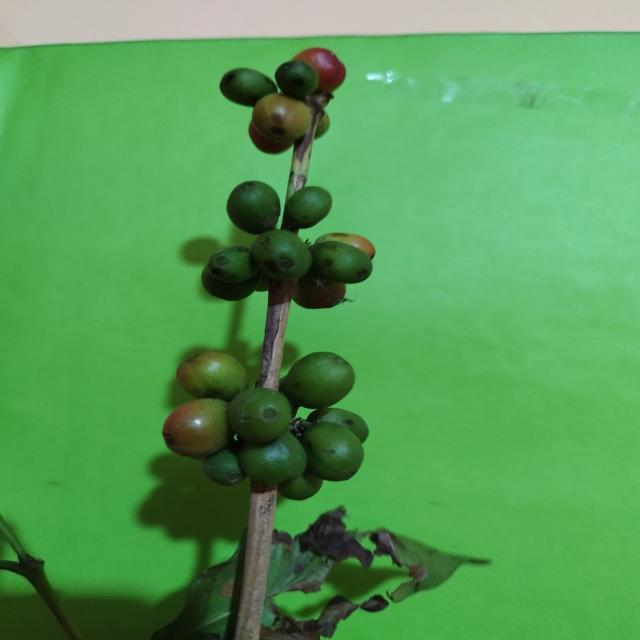Danado: (251, 229, 313, 281), (308, 242, 373, 286)
Sano: (162, 399, 234, 462), (294, 423, 364, 482), (282, 353, 355, 409), (228, 391, 290, 445), (252, 94, 312, 144), (227, 182, 280, 234)
